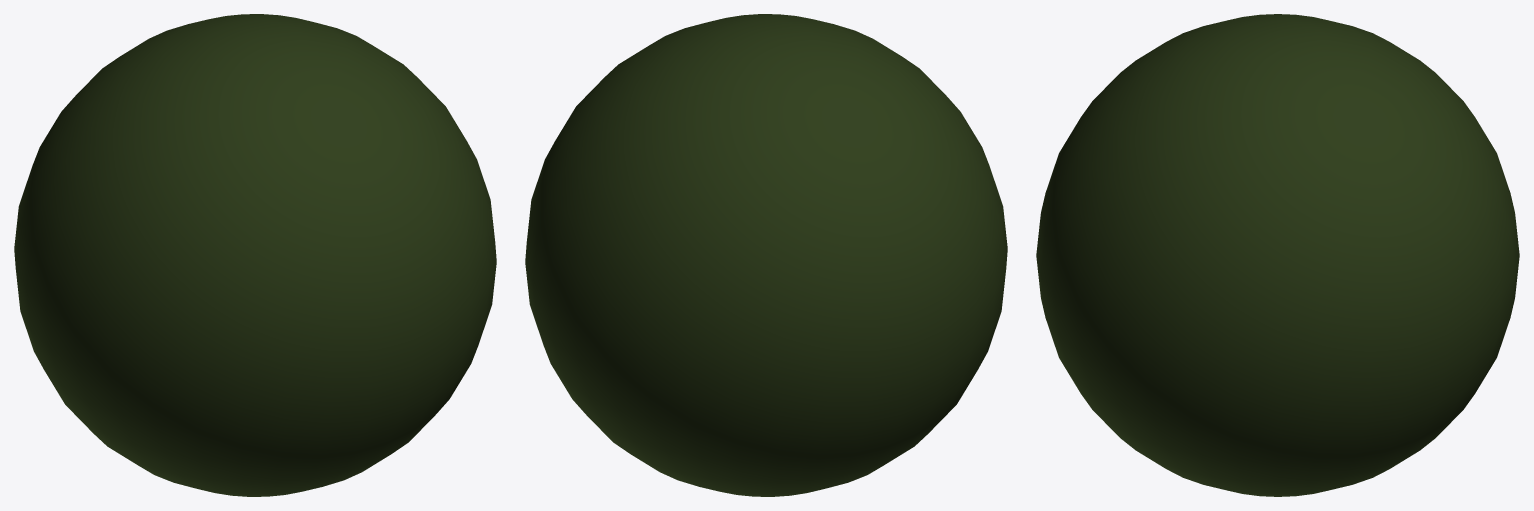
File: celandine_01_4k.fbx
3 renders of one model, left to right at view 1: azimuth 30°, elevation 25°; view 2: azimuth 150°, elevation 25°; view 3: azimuth 270°, elevation 25°, orthographic.
Parts seen in each view (by area): view 1: celandine_01_particles; view 2: celandine_01_particles; view 3: celandine_01_particles.
Part boxes in pixels (<box>): celandine_01_particles: <box>14,14,496,496</box>; celandine_01_particles: <box>525,14,1007,496</box>; celandine_01_particles: <box>1036,14,1519,496</box>.
Size of the model in its own units: 70 by 70 by 70.
